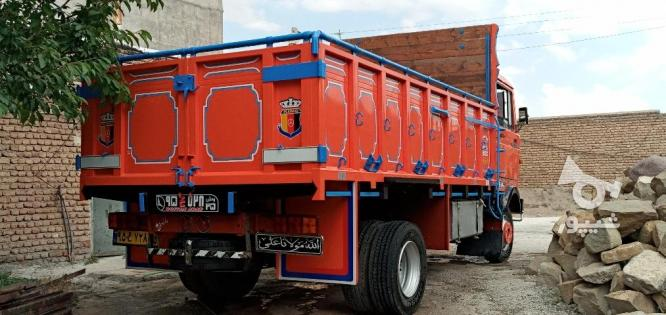car: (113, 231, 148, 246)
